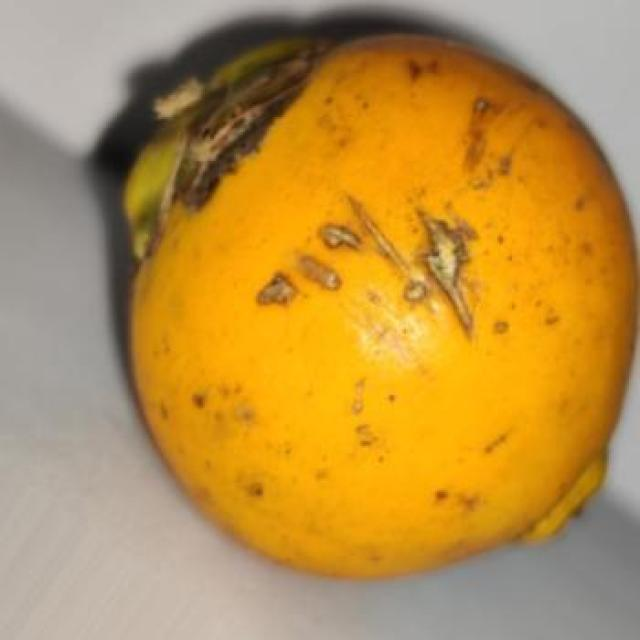good: (121, 29, 638, 581)
